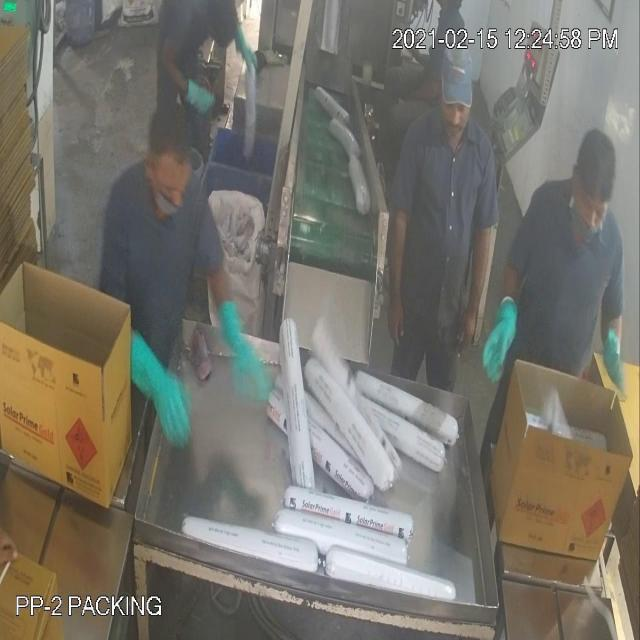No_Gloves: (32, 82, 617, 388)
